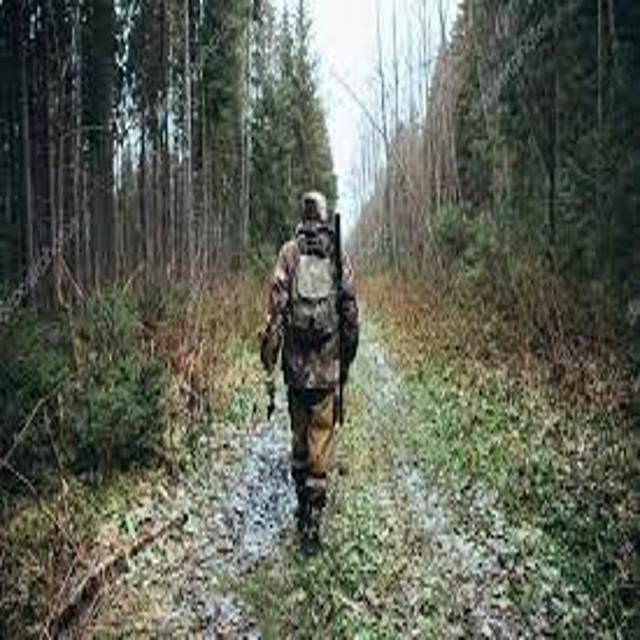backpack: (259, 212, 367, 358)
poacher: (225, 160, 410, 572)
